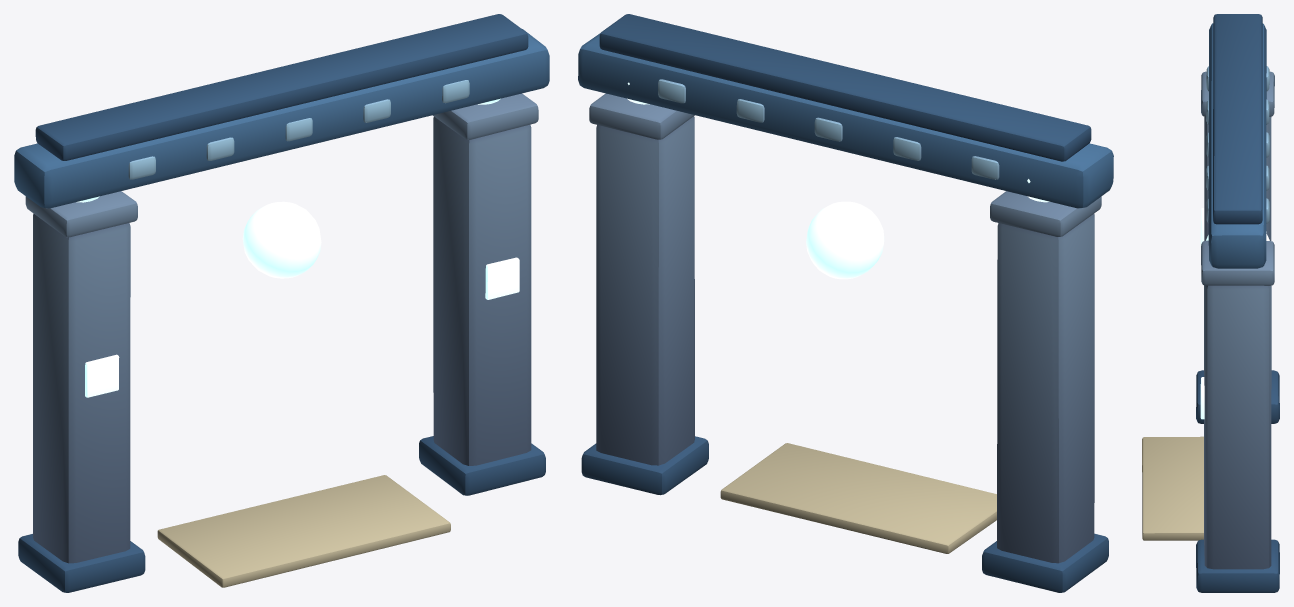
3 renders of one model, left to right at view 1: azimuth 30°, elevation 25°; view 2: azimuth 150°, elevation 25°; view 3: azimuth 270°, elevation 25°, orthographic. The views are drawn at different scales.
Parts seen in each view (by area): view 1: gate_8c643e51; view 2: gate_8c643e51; view 3: gate_8c643e51.
Part boxes in pixels (x1,y1,x2,y2): gate_8c643e51: [14, 14, 549, 592]; gate_8c643e51: [578, 14, 1113, 592]; gate_8c643e51: [1142, 14, 1279, 592].
Size of the model in its own units: 5.35 by 4.43 by 1.44.
